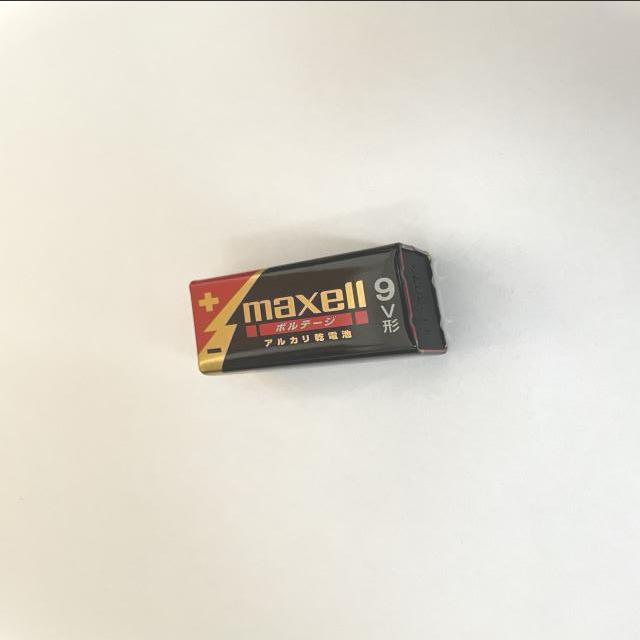9V: (189, 240, 446, 375)
